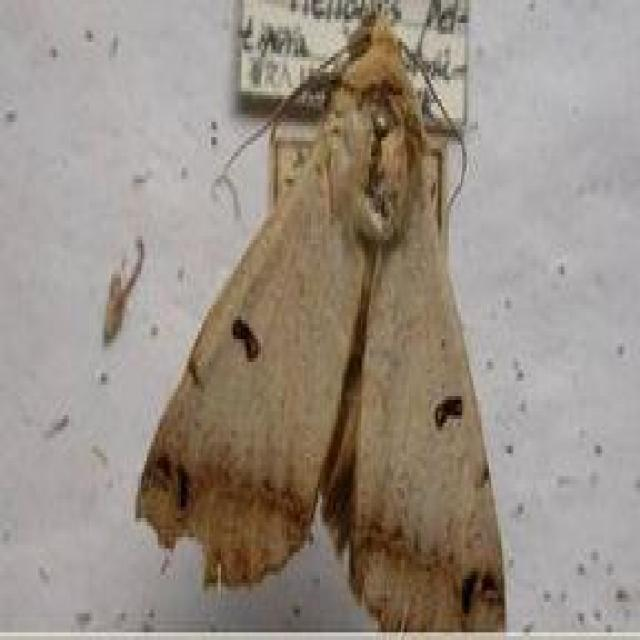BeetArmyWorm-Adult-: (120, 12, 517, 636)
